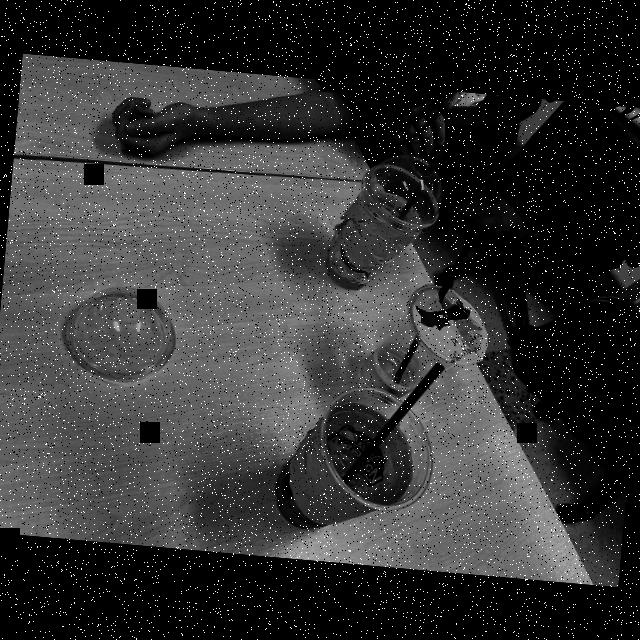plastic_cup: (264, 380, 442, 542), (354, 275, 493, 411), (318, 158, 445, 298)
plastic_cup_lid: (51, 278, 181, 383), (361, 155, 443, 228)
straw: (339, 362, 444, 486), (392, 243, 472, 382), (391, 136, 451, 233)
